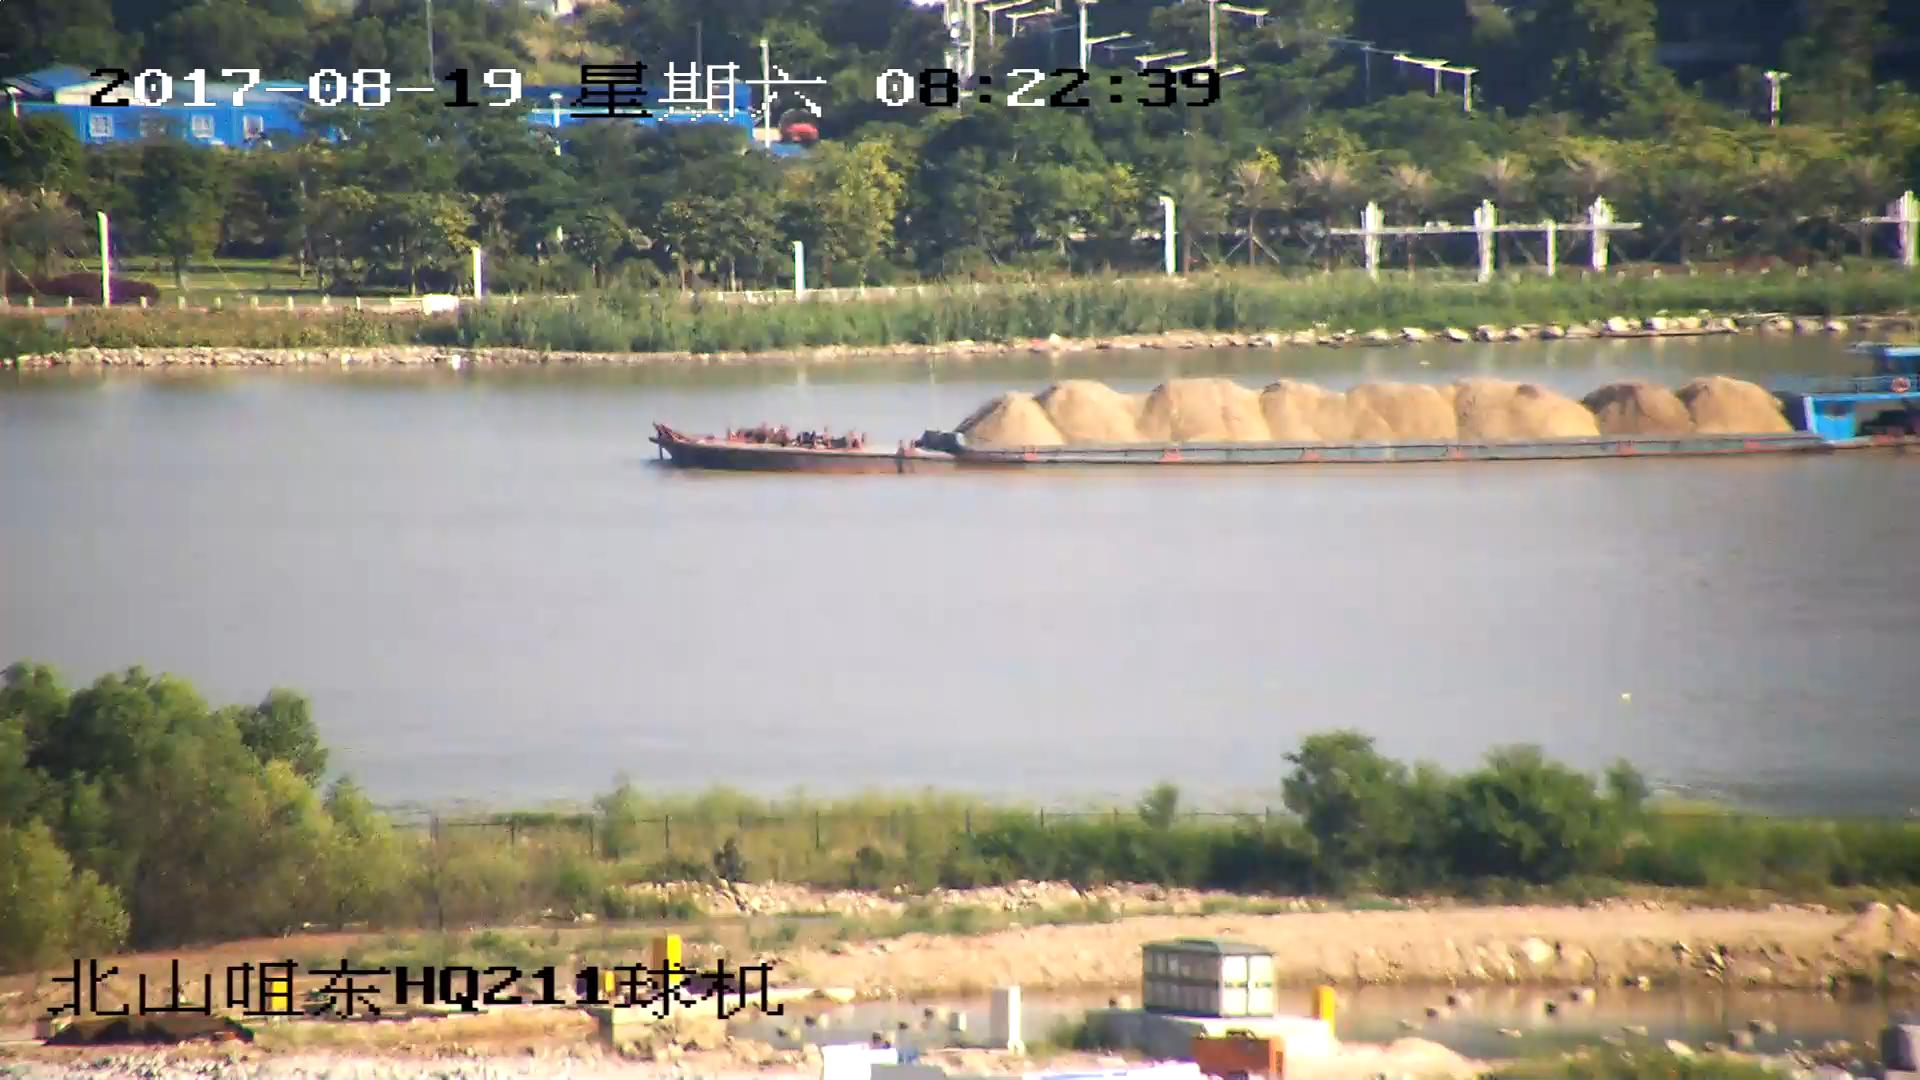ore carrier: (646, 342, 1920, 467)
